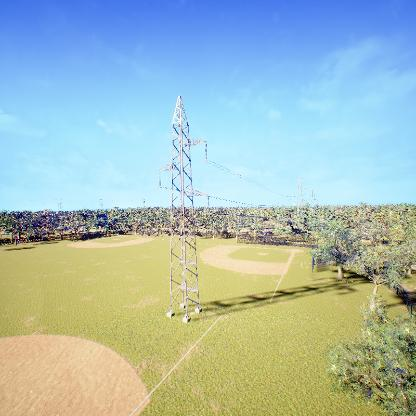tower: (153, 94, 210, 323)
